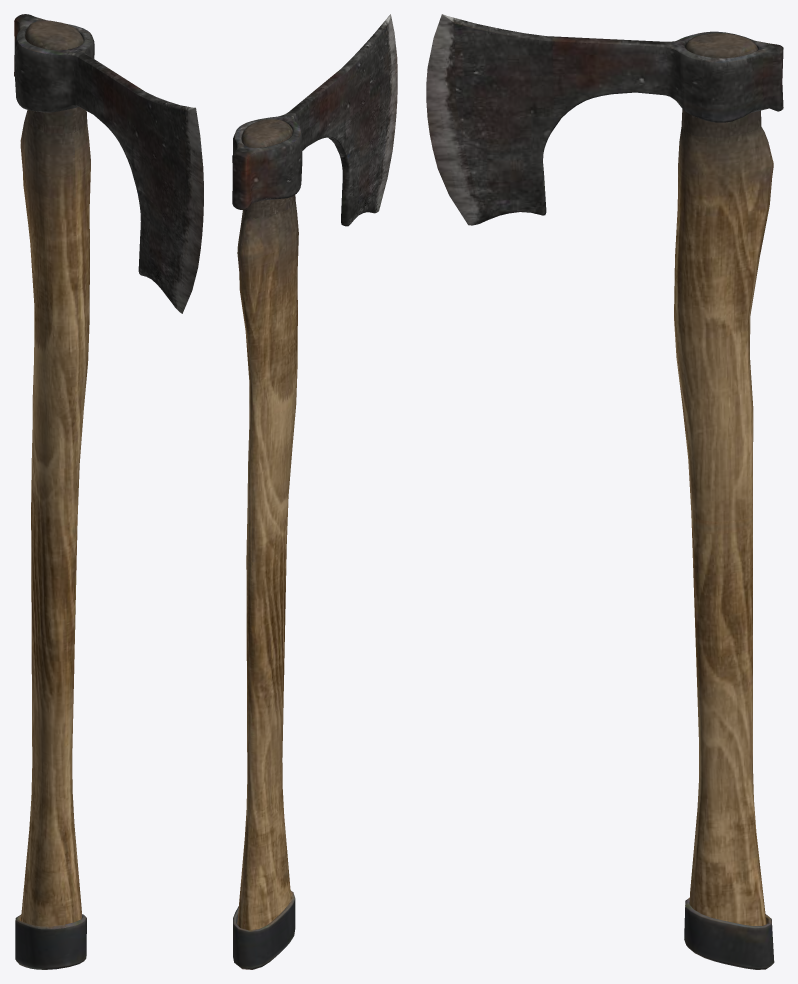
The model's file is ph_wooden_axe.glb.
3 renders of one model, left to right at view 1: azimuth 30°, elevation 25°; view 2: azimuth 150°, elevation 25°; view 3: azimuth 270°, elevation 25°, orthographic. The views are drawn at different scales.
Parts seen in each view (by area): view 1: wooden_axe; view 2: wooden_axe; view 3: wooden_axe.
Part boxes in pixels (left/top/right/bottom): wooden_axe: left=14, top=14, right=203, bottom=969; wooden_axe: left=232, top=14, right=397, bottom=969; wooden_axe: left=426, top=14, right=783, bottom=969.
Bounding box in the file's own units: 0.0472 × 0.6303 × 0.2143.
Materials: 1 (1 with a texture image).
